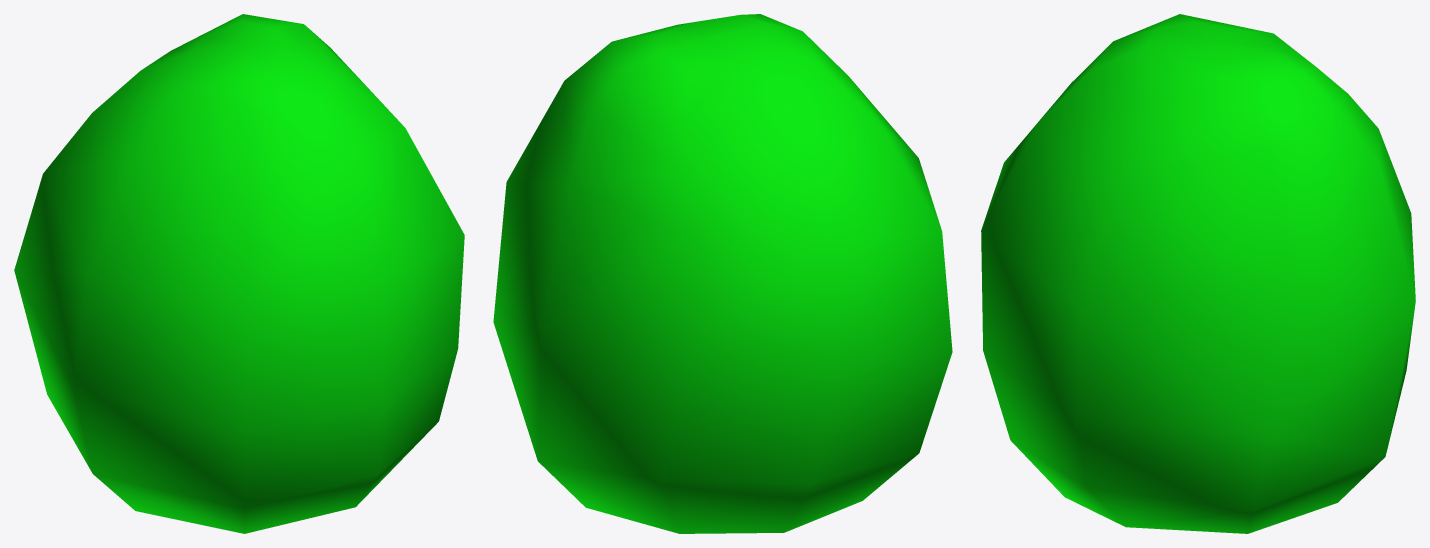
The model's file is Bush_02.fbx.
3 renders of one model, left to right at view 1: azimuth 30°, elevation 25°; view 2: azimuth 150°, elevation 25°; view 3: azimuth 270°, elevation 25°, orthographic. The views are drawn at different scales.
Visible parts, largest first — view 1: Bush_02; view 2: Bush_02; view 3: Bush_02.
Boxes of the visible parts, x1,y1,x2,y2 form: Bush_02: [14, 14, 464, 533]; Bush_02: [493, 14, 952, 533]; Bush_02: [981, 14, 1415, 533].
Bounding box in the file's own units: 166 × 183 × 159.
